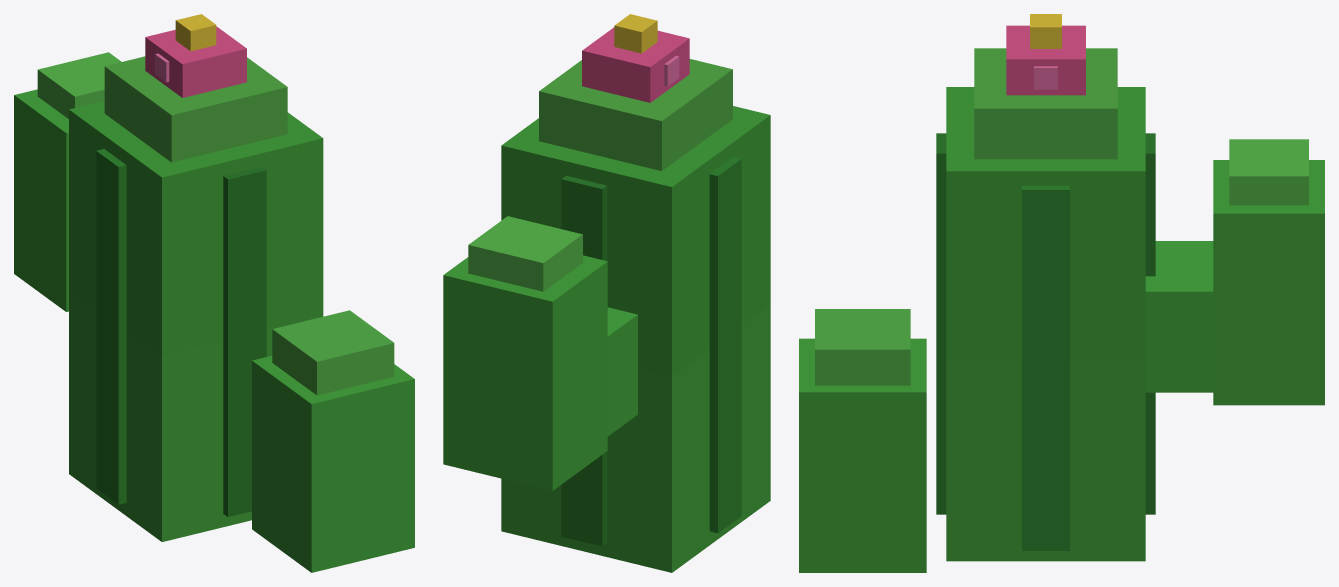
Rendered from cactus_small.glb.
3 views of the same model, side by side, from view 1: azimuth 30°, elevation 25°; view 2: azimuth 150°, elevation 25°; view 3: azimuth 270°, elevation 25° (orthographic). The views are drawn at different scales.
Parts seen in each view (by area): view 1: cactus_small; view 2: cactus_small; view 3: cactus_small.
Boxes of the visible parts, x1,y1,x2,y2 form: cactus_small: (14,14,414,572); cactus_small: (443,14,770,572); cactus_small: (799,14,1324,572).
Size of the model in its own units: 0.595 by 1.38 by 1.32.
